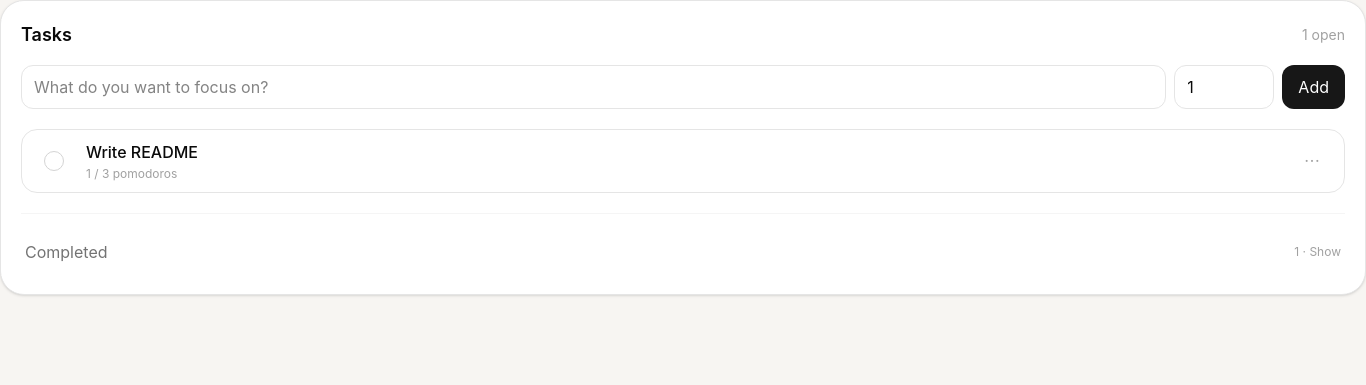
it: TaskList Phase 2 workflow › keeps completed tasks collapsed until the user expands them
Expected: the text "Review architecture" is not shown
Click the button "Completed 1 · Show".
click(66, 252)  # box [21,230,1345,274]
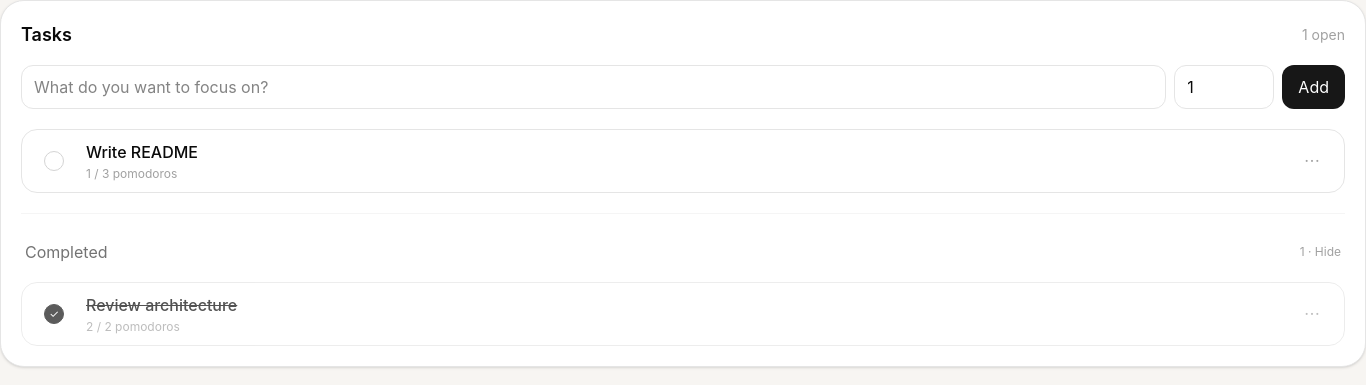
Result: the text "Review architecture" is shown at [86,295,237,315]
